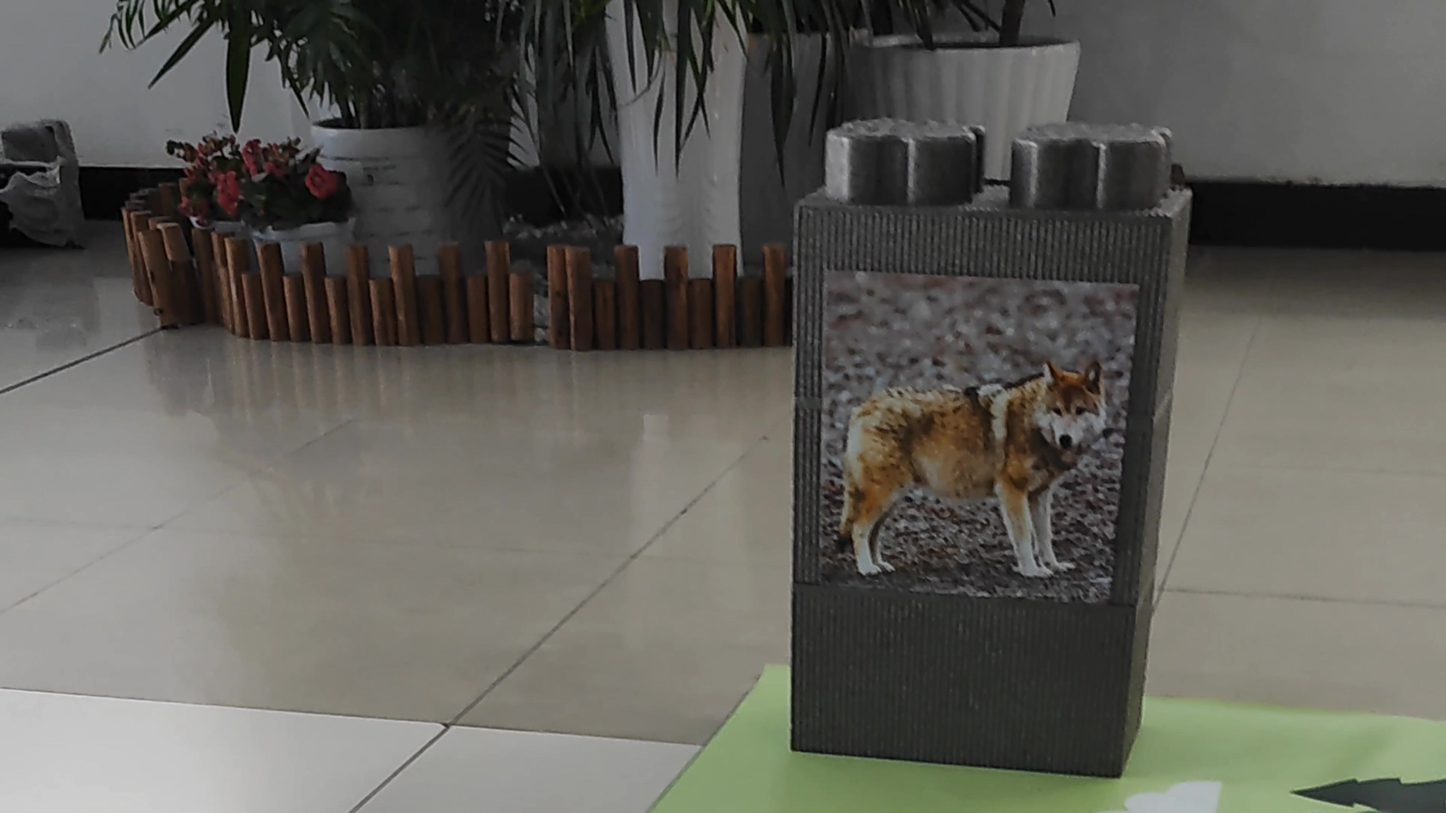wolf: (809, 289, 1118, 593)
